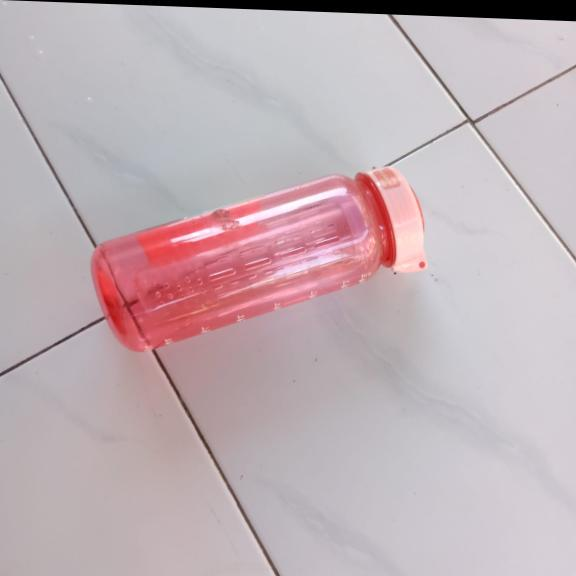Plastik: (89, 155, 428, 362)
